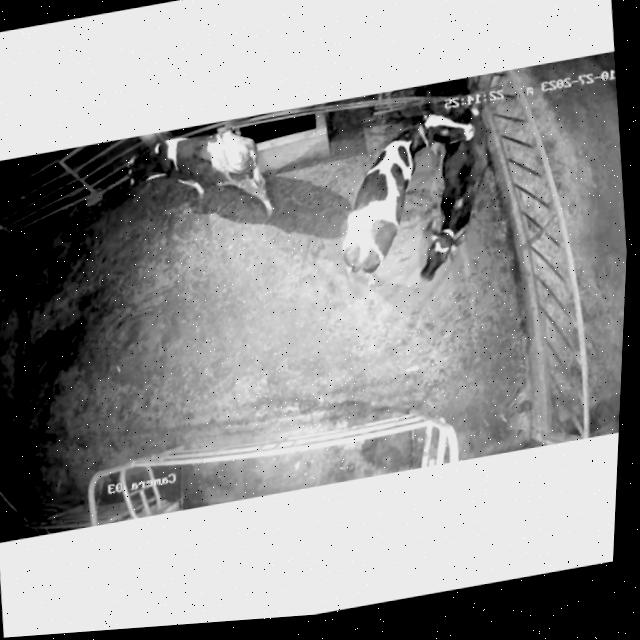propping: (402, 97, 496, 159)
